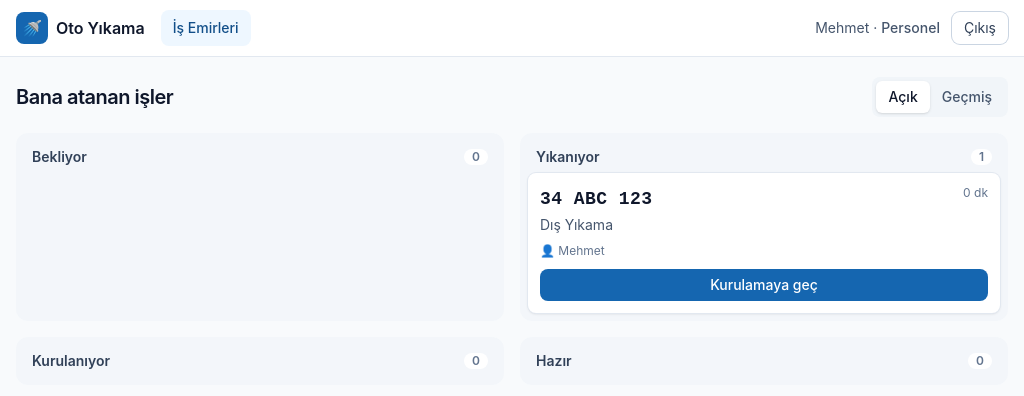
personel panosu › yalnız ileri durum düğmesi; yeni iş emri ve iptal yok; tıklayınca durum isteği gider
Expected: the text "34 ABC 123" is shown, [540, 185, 652, 213]
Expected: the heading "Bana atanan işler" is shown, [16, 83, 173, 111]
Click the button "Kurulamaya geç" at {"x": 764, "y": 285}, box [540, 269, 988, 301]
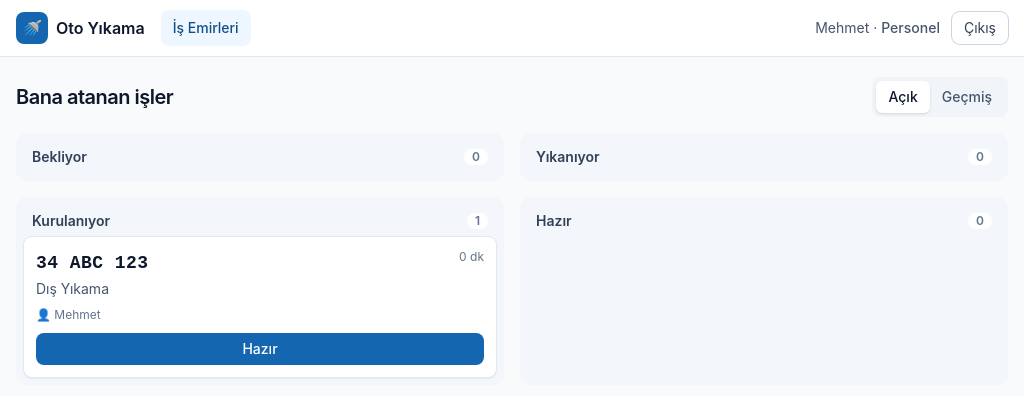
Expected: the button "Hazır" is shown, [36, 333, 484, 365]
